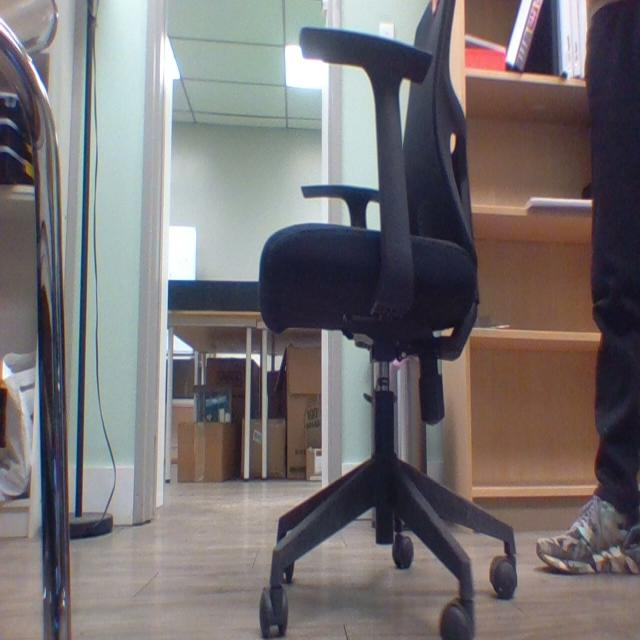black-chair: (248, 4, 524, 639)
